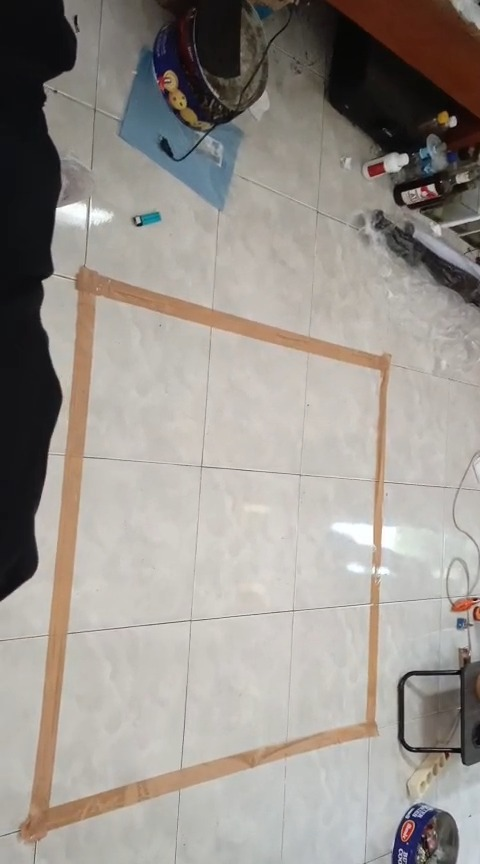floor marking: (19, 267, 388, 840)
